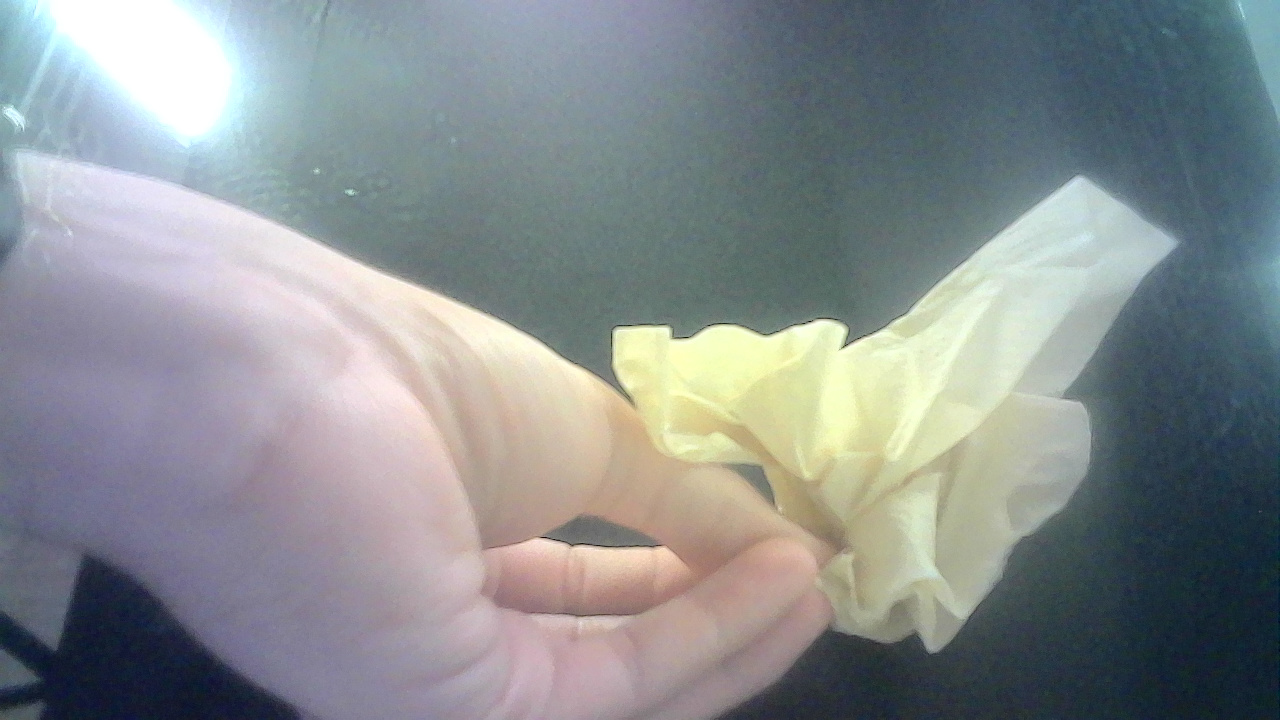Paper_Recycling: (560, 163, 1171, 660)
